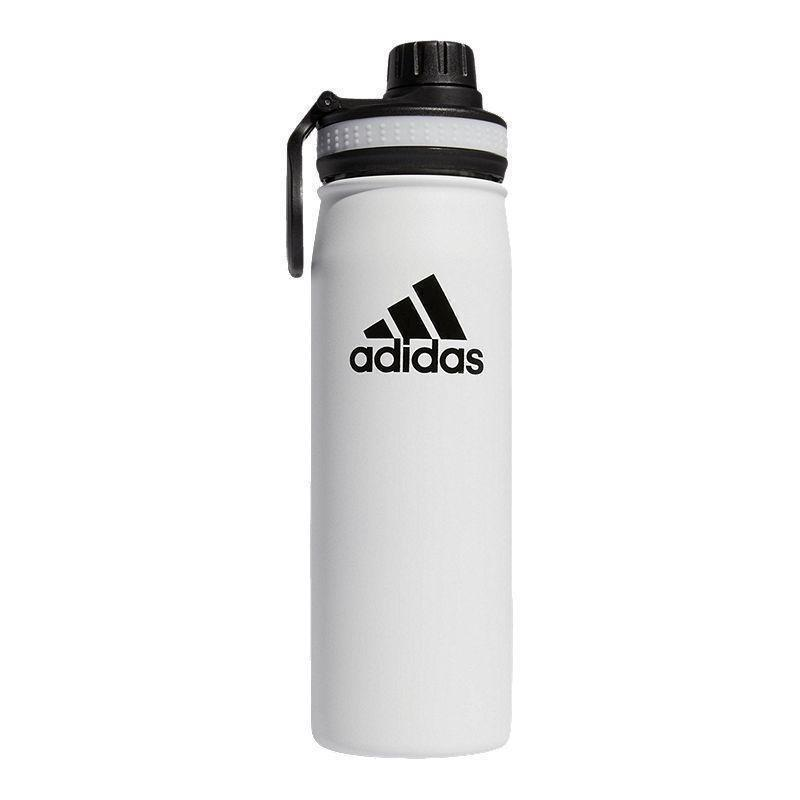gym bottle: (286, 38, 516, 760)
